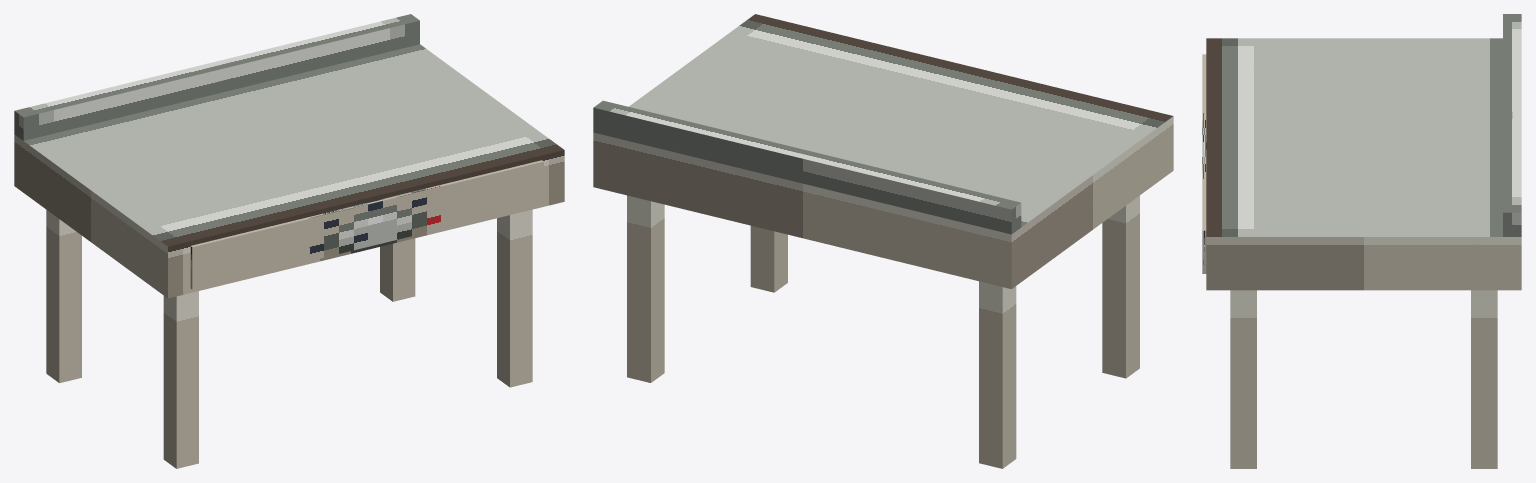
Rendered from griddle.glb.
The picture shows the model from 3 angles, left to right: view 1: azimuth 30°, elevation 25°; view 2: azimuth 150°, elevation 25°; view 3: azimuth 270°, elevation 25°; orthographic projection. The views are drawn at different scales.
Visible parts, largest first — view 1: Griddle, Control_griddle1_off; view 2: Griddle; view 3: Griddle, Control_griddle1_off.
Part boxes in pixels (x1=…): Griddle: x1=14, y1=14, x2=564, y2=468; Control_griddle1_off: x1=190, y1=160, x2=543, y2=289; Griddle: x1=593, y1=14, x2=1173, y2=468; Griddle: x1=1206, y1=14, x2=1521, y2=468; Control_griddle1_off: x1=1202, y1=54, x2=1206, y2=273.
Size of what is drawn, in the model's own units: 1.76 by 1.1 by 1.19.
Materials: 1 (1 with a texture image).
